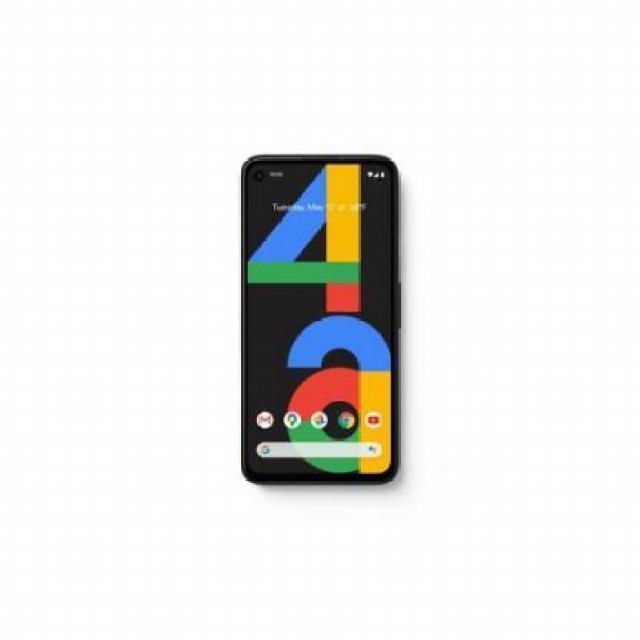phone: (235, 148, 409, 482)
